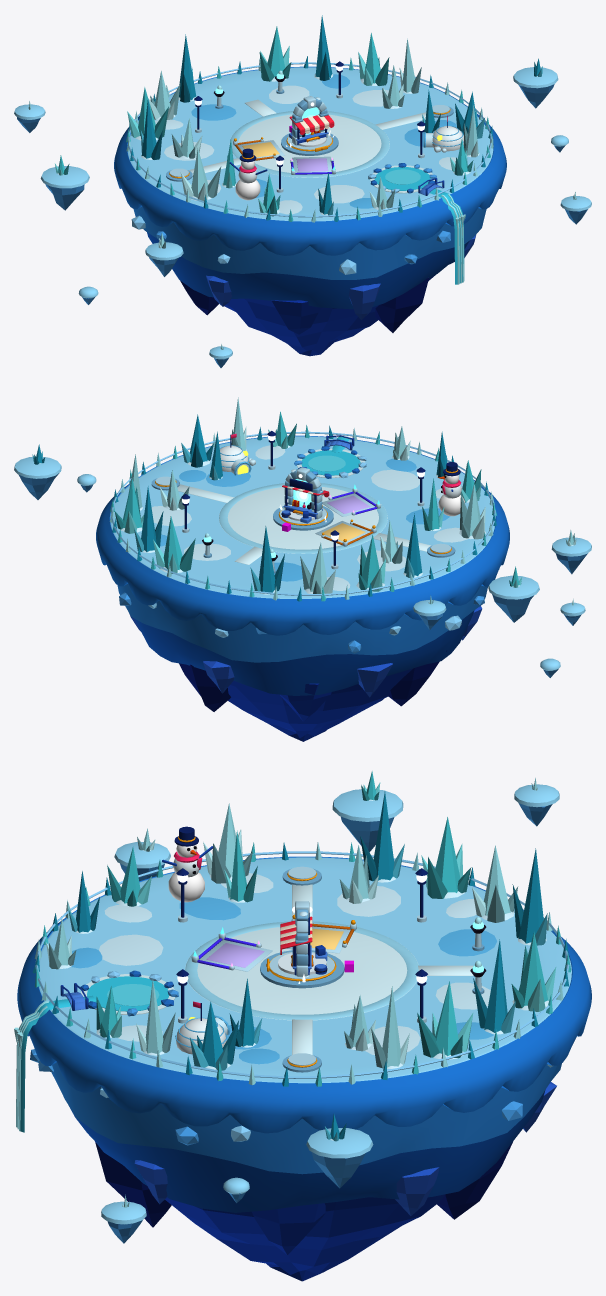
The model's file is neptune_island.fbx.
The picture shows the model from 3 angles, top to bottom: view 1: azimuth 30°, elevation 25°; view 2: azimuth 150°, elevation 25°; view 3: azimuth 270°, elevation 25°; orthographic projection. The views are drawn at different scales.
Visible parts, largest first — view 1: Neptune_Island, Neptune_Trees, Neptune_Paths, Neptune_Dressing, Neptune_FloatingRocks, Neptune_Water, Neptune_BossPlinth, Neptune_Stall, Neptune_Portal; view 2: Neptune_Island, Neptune_Trees, Neptune_Paths, Neptune_Dressing, Neptune_FloatingRocks, Neptune_Water, Neptune_Portal, Neptune_Stall, Neptune_BossPlinth; view 3: Neptune_Island, Neptune_Trees, Neptune_Paths, Neptune_Dressing, Neptune_FloatingRocks, Neptune_Water, Neptune_BossPlinth, Neptune_Stall, Neptune_Portal.
Boxes of the visible parts, x1,y1,x2,y2 form: Neptune_Island: [114, 66, 506, 356]; Neptune_Trees: [127, 15, 484, 216]; Neptune_Paths: [166, 99, 453, 181]; Neptune_Dressing: [126, 56, 493, 222]; Neptune_FloatingRocks: [14, 58, 591, 367]; Neptune_Water: [374, 167, 465, 284]; Neptune_BossPlinth: [281, 132, 338, 155]; Neptune_Stall: [289, 115, 334, 145]; Neptune_Portal: [286, 96, 334, 147]; Neptune_Island: [96, 435, 509, 741]; Neptune_Trees: [114, 397, 485, 594]; Neptune_Paths: [151, 476, 455, 564]; Neptune_Dressing: [109, 425, 496, 601]; Neptune_FloatingRocks: [14, 444, 591, 677]; Neptune_Water: [301, 436, 360, 475]; Neptune_Portal: [279, 467, 326, 522]; Neptune_Stall: [281, 478, 329, 523]; Neptune_BossPlinth: [273, 505, 333, 530]; Neptune_Island: [17, 856, 591, 1281]; Neptune_Trees: [46, 791, 556, 1070]; Neptune_Paths: [185, 866, 473, 1072]; Neptune_Dressing: [32, 826, 570, 1086]; Neptune_FloatingRocks: [101, 771, 559, 1243]; Neptune_Water: [14, 976, 168, 1132]; Neptune_BossPlinth: [260, 950, 344, 988]; Neptune_Stall: [280, 913, 327, 975]; Neptune_Portal: [292, 901, 312, 983].
Bounding box in the file's own units: 181 × 94.57 × 123.
